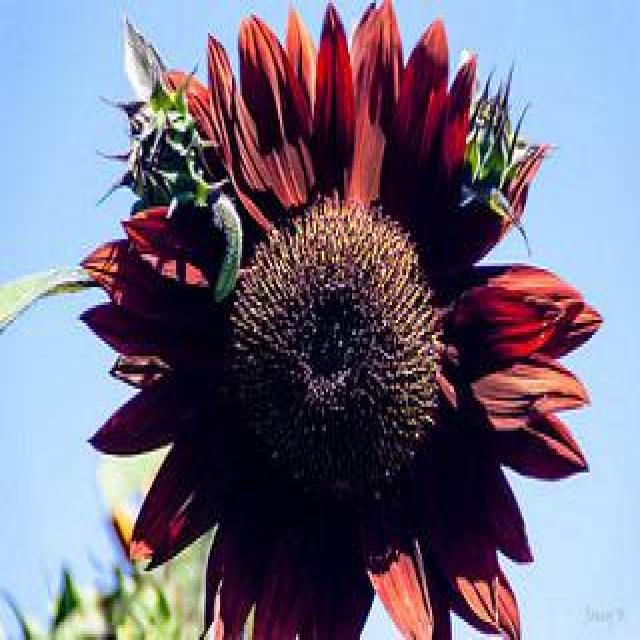sunflower: (82, 0, 602, 640)
